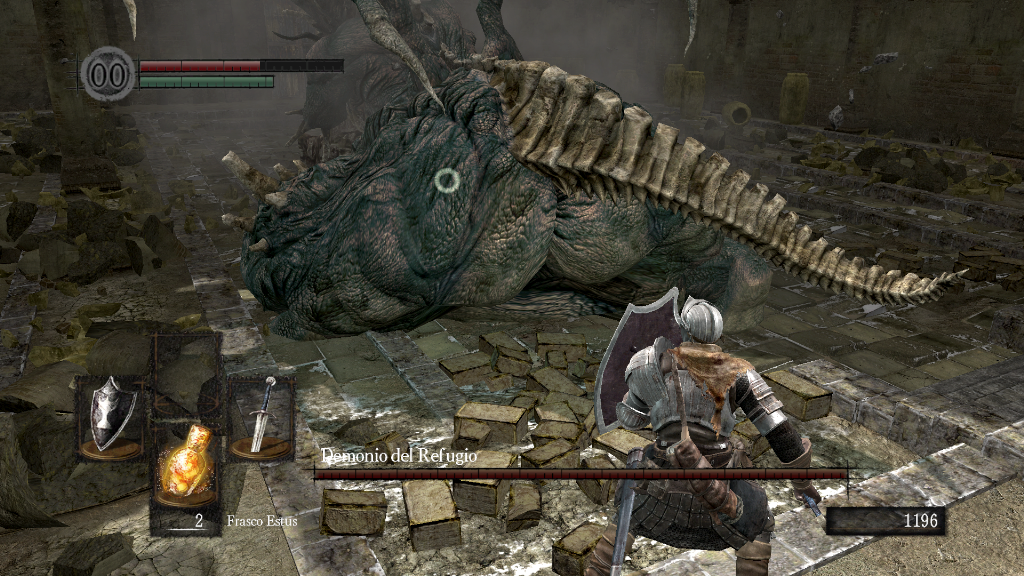asylumDemon: (207, 3, 974, 344)
bossHP: (314, 469, 847, 479)
health: (138, 58, 343, 71)
humanity: (80, 45, 136, 102)
player: (593, 286, 822, 576)
souls: (825, 506, 945, 536)
stamina: (138, 74, 274, 88)
